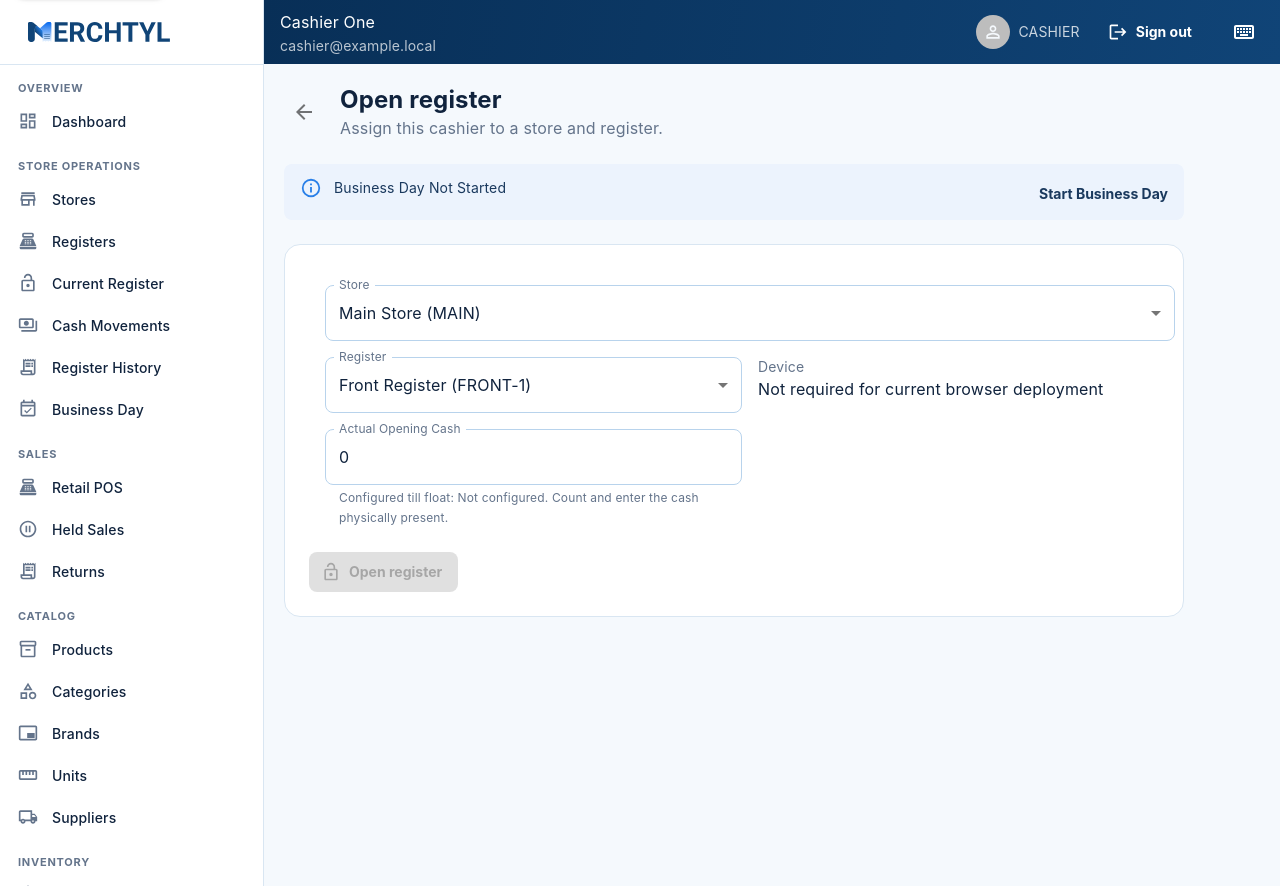
Test: Register session pages › starts a missing business day from register open and enables register operation immediately
The width and height of the screenshot is (1280, 886).
Expected: the button "Open register" is disabled, [309, 552, 458, 592]
Click the button "Start Business Day": (1104, 194) [1031, 174, 1176, 214]
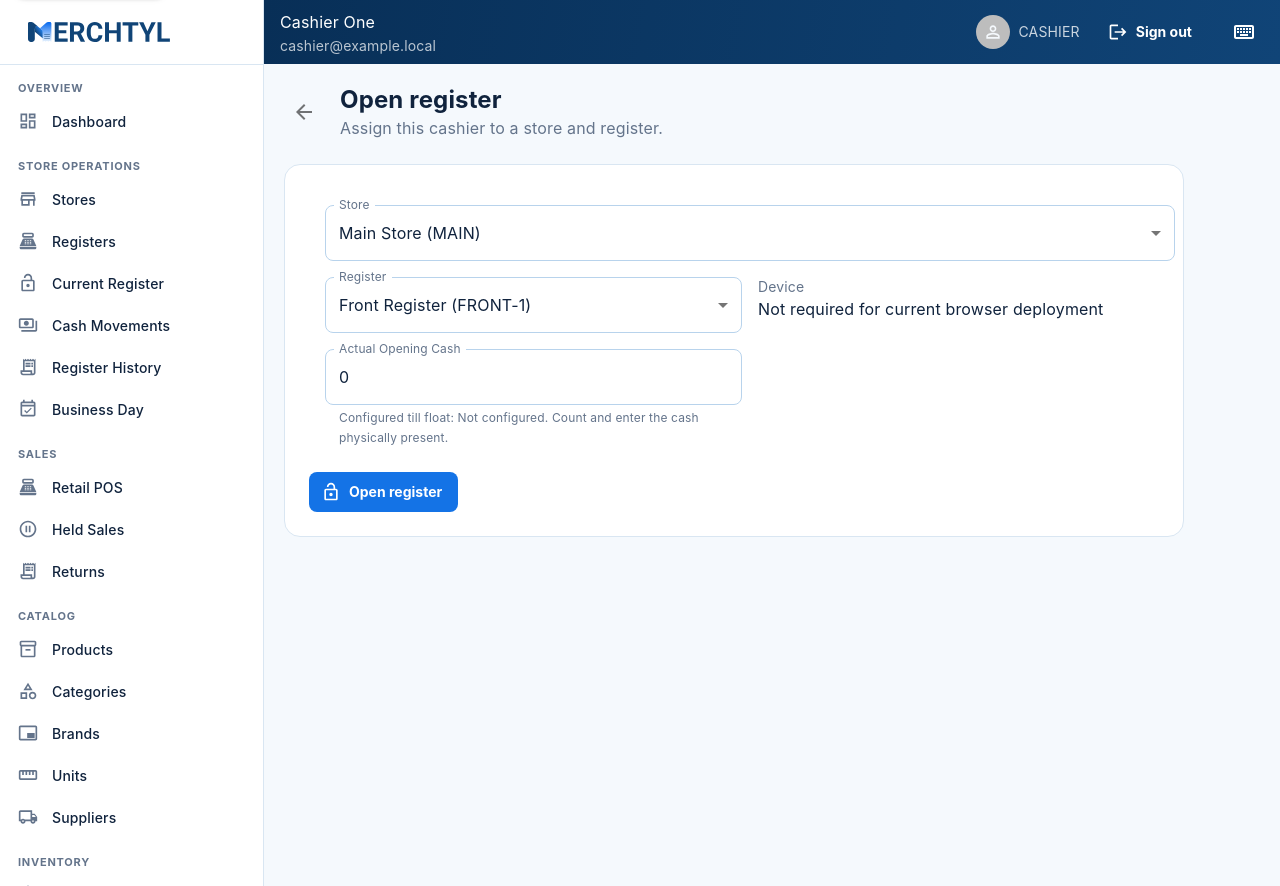
Expected: the button "Open register" is enabled, [309, 472, 458, 512]
